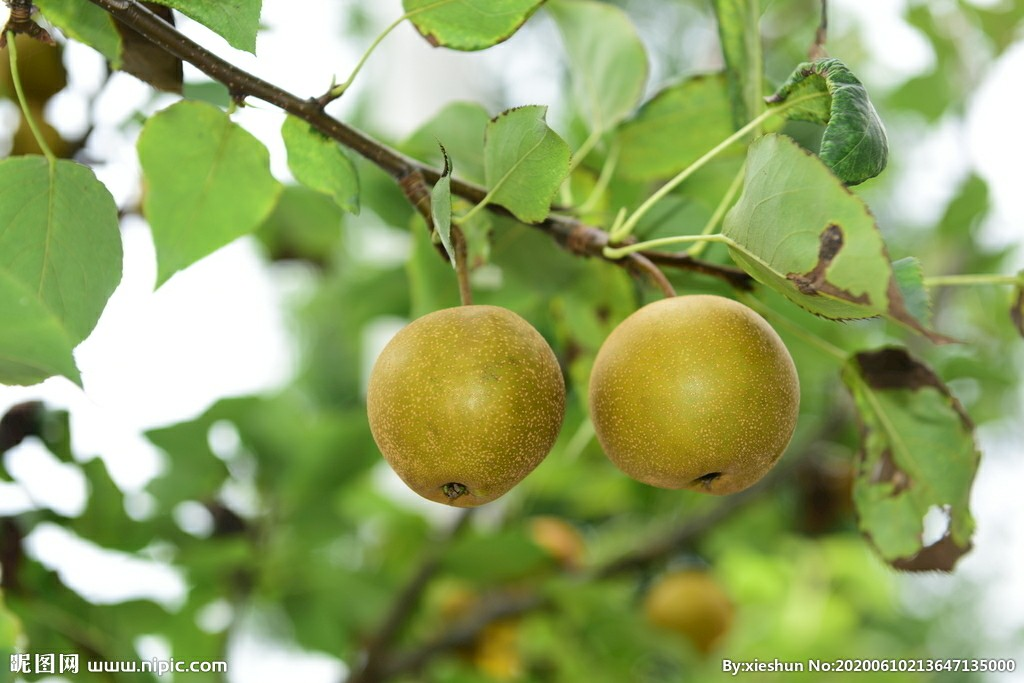pear: (592, 295, 798, 497), (369, 302, 565, 504)
